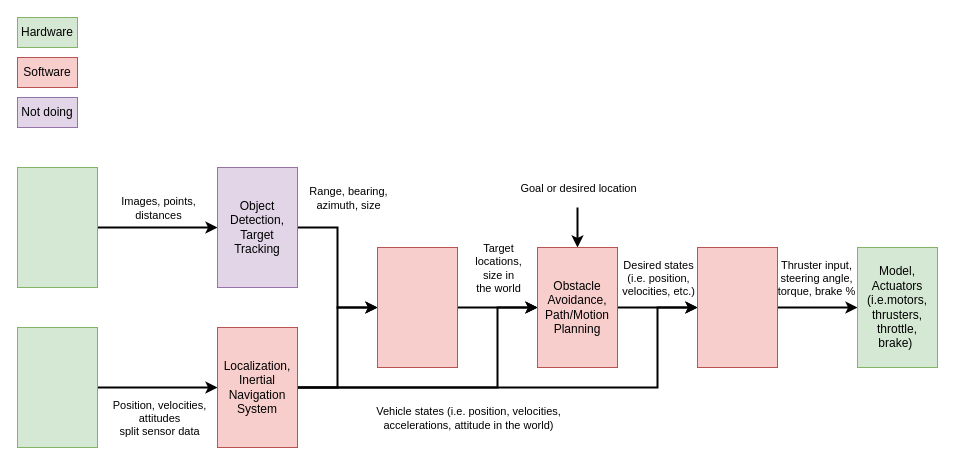
Some shapes in this 955 by 465 pixel diagram are drawn without their labels. The shapes that lost their labels are listed below. From the top down, each one's box as (x1, y1, x2, y2) in pixels, then its label:
(16, 166, 98, 288): Visual Sensors (i.e. camera, radar, lidar, sonar)
(376, 246, 458, 368): Mapping
(696, 246, 778, 368): Controls
(16, 326, 98, 448): Nav Sensors (i.e. compass, gps, imu, dvl, depth)
